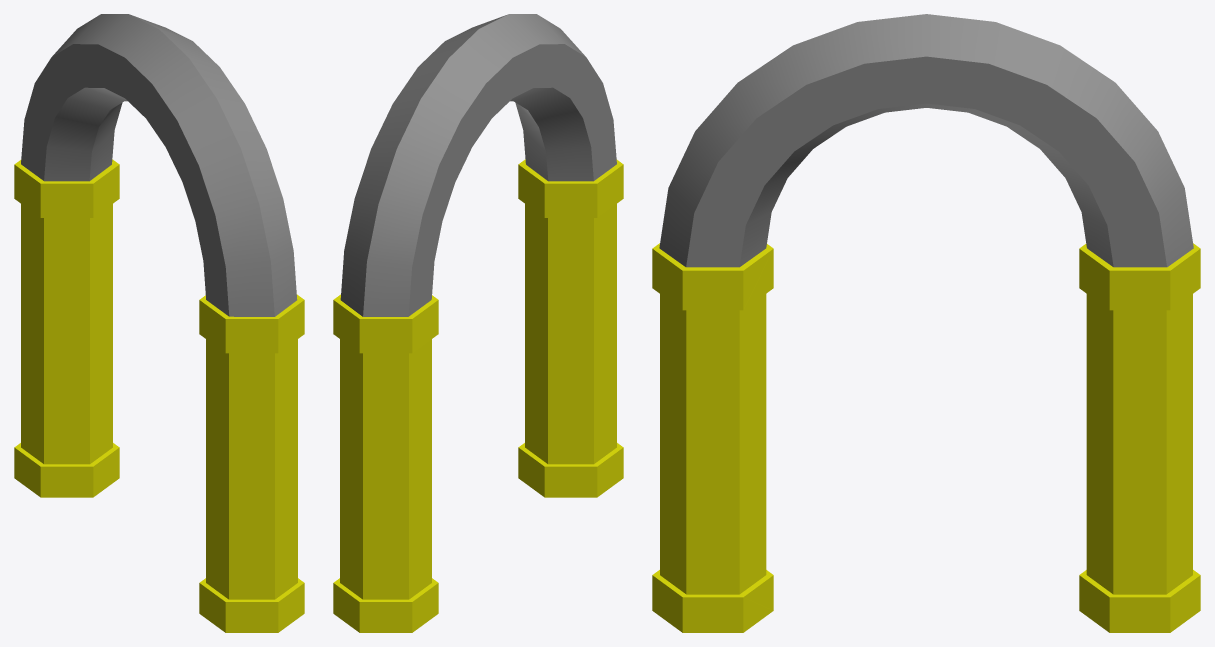
File: Arch.fbx
The picture shows the model from 3 angles, left to right: view 1: azimuth 30°, elevation 25°; view 2: azimuth 150°, elevation 25°; view 3: azimuth 270°, elevation 25°; orthographic projection. The views are drawn at different scales.
Parts seen in each view (by area): view 1: polySurface224; view 2: polySurface224; view 3: polySurface224.
Part boxes in pixels (x1=…): polySurface224: x1=14, y1=14, x2=304, y2=632; polySurface224: x1=333, y1=14, x2=623, y2=632; polySurface224: x1=652, y1=14, x2=1200, y2=632.
Bounding box in the file's own units: 122 × 763 × 636.
